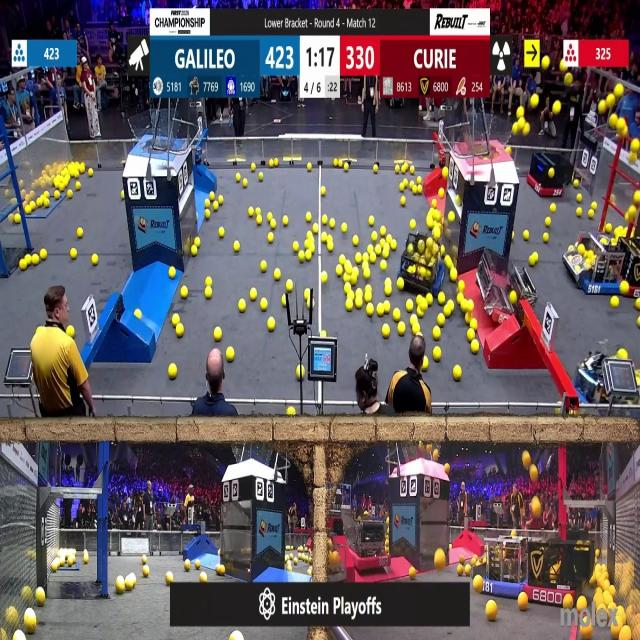ball_airborne: (534, 498, 544, 516), (523, 452, 531, 468), (530, 465, 538, 481), (619, 124, 628, 138), (616, 86, 625, 99), (609, 114, 617, 128), (530, 95, 538, 109), (598, 101, 606, 114), (517, 106, 525, 119), (540, 58, 548, 71), (554, 102, 562, 114), (606, 96, 614, 108), (523, 124, 530, 136), (632, 139, 639, 151), (565, 73, 572, 85), (630, 151, 638, 161), (634, 190, 640, 203), (560, 61, 567, 72), (514, 124, 520, 136), (432, 450, 438, 460), (630, 206, 636, 216), (444, 168, 449, 178), (505, 147, 511, 154)
ball_ground: (25, 612, 38, 635), (486, 601, 497, 620), (434, 552, 444, 570), (126, 574, 137, 590), (36, 589, 45, 607), (518, 594, 528, 610), (472, 575, 481, 591), (119, 578, 128, 594), (576, 597, 586, 610), (169, 363, 178, 377), (446, 302, 455, 316), (621, 282, 630, 295), (454, 365, 462, 379), (566, 593, 574, 607), (226, 347, 233, 362), (432, 326, 440, 339), (530, 253, 538, 266), (433, 348, 440, 362), (470, 342, 478, 354), (610, 295, 618, 307), (397, 322, 405, 334), (365, 306, 373, 318), (180, 286, 188, 298), (172, 314, 180, 326), (432, 229, 440, 241), (351, 271, 359, 283), (383, 324, 390, 337), (269, 318, 276, 331), (619, 349, 628, 359), (18, 261, 26, 272), (363, 291, 371, 302), (426, 217, 434, 228), (396, 279, 404, 290), (344, 265, 352, 276), (250, 288, 257, 300), (176, 324, 183, 336), (239, 300, 246, 312), (214, 328, 221, 340), (167, 571, 174, 583), (451, 270, 458, 282), (70, 248, 77, 260), (439, 292, 446, 304), (467, 328, 474, 340), (205, 287, 212, 299), (511, 291, 518, 303), (217, 564, 225, 574), (67, 326, 75, 336), (411, 316, 419, 326), (296, 365, 302, 378), (410, 567, 417, 578), (394, 310, 401, 321), (93, 253, 100, 264), (347, 301, 354, 312), (407, 301, 414, 312), (355, 299, 362, 310), (337, 267, 344, 278), (439, 315, 446, 326), (297, 250, 304, 261), (345, 284, 352, 295), (432, 210, 439, 221), (235, 241, 241, 253), (260, 300, 266, 312), (458, 280, 464, 292), (422, 357, 428, 369), (355, 288, 363, 297), (378, 305, 384, 317), (201, 572, 208, 582), (363, 270, 370, 280), (259, 262, 266, 272), (413, 324, 420, 334), (32, 254, 39, 264), (76, 229, 83, 239), (466, 302, 473, 312), (383, 248, 390, 258), (362, 252, 369, 262), (418, 308, 425, 318), (445, 255, 452, 265), (26, 255, 33, 265), (275, 270, 281, 281), (170, 268, 176, 279), (184, 560, 190, 571), (286, 281, 292, 292), (40, 249, 46, 260), (292, 239, 298, 250), (305, 288, 311, 299), (384, 303, 390, 314), (370, 233, 377, 242), (385, 286, 392, 295), (287, 409, 294, 418), (542, 234, 548, 244), (356, 253, 362, 263), (269, 234, 275, 244), (283, 216, 289, 226), (194, 560, 200, 570), (524, 231, 530, 241), (218, 228, 224, 238), (321, 273, 327, 283), (143, 566, 149, 576), (411, 219, 417, 229), (353, 237, 359, 247), (381, 262, 387, 272), (427, 294, 433, 304), (449, 212, 455, 222), (307, 212, 313, 222), (367, 216, 373, 226), (206, 277, 212, 287), (271, 219, 277, 229), (369, 253, 375, 263), (390, 241, 396, 251), (190, 246, 196, 256), (306, 250, 312, 260), (470, 319, 476, 329), (136, 310, 142, 320), (376, 246, 382, 256), (464, 314, 470, 324), (464, 564, 470, 574), (385, 234, 391, 244), (385, 279, 392, 287), (248, 208, 254, 217), (551, 204, 557, 213), (589, 210, 595, 219), (13, 214, 19, 223), (440, 188, 446, 197), (342, 223, 348, 232), (328, 219, 334, 228), (142, 556, 148, 565), (212, 201, 218, 210), (310, 244, 316, 253), (341, 254, 346, 264), (256, 215, 261, 225), (327, 242, 332, 252), (313, 223, 318, 233), (381, 226, 386, 236), (458, 565, 463, 575), (305, 162, 310, 172), (417, 294, 422, 304), (282, 294, 286, 306), (193, 239, 199, 247), (43, 200, 49, 208), (636, 296, 640, 308), (305, 241, 311, 249), (205, 200, 211, 208), (55, 190, 61, 198), (410, 167, 416, 175), (254, 208, 260, 216), (205, 210, 211, 218), (26, 206, 32, 214), (79, 166, 85, 174), (573, 180, 579, 188), (331, 160, 337, 168), (544, 217, 549, 226), (68, 189, 73, 198), (576, 192, 581, 201), (243, 178, 248, 187), (372, 164, 377, 173), (258, 173, 263, 182), (322, 215, 327, 224), (457, 293, 462, 302), (367, 245, 372, 254), (269, 212, 274, 221), (394, 167, 400, 174), (398, 183, 404, 190), (308, 233, 314, 240), (270, 161, 276, 168), (74, 171, 80, 178), (364, 286, 371, 292), (322, 234, 326, 244), (320, 186, 325, 194), (431, 200, 436, 208), (321, 330, 326, 338), (218, 195, 223, 203), (83, 556, 88, 564), (274, 160, 279, 168), (400, 166, 405, 174), (381, 238, 386, 246), (402, 178, 407, 186), (307, 302, 312, 310), (576, 208, 580, 217), (210, 191, 214, 200), (418, 184, 422, 193), (442, 246, 446, 255), (592, 203, 597, 210), (237, 175, 242, 182), (251, 165, 256, 172), (344, 275, 349, 282), (344, 165, 349, 172), (76, 182, 80, 190), (400, 198, 404, 206), (90, 169, 94, 177), (308, 568, 312, 576), (636, 318, 640, 326), (513, 233, 517, 241), (594, 551, 598, 559), (418, 177, 422, 184), (449, 542, 453, 549), (218, 550, 222, 557), (120, 190, 123, 198)
goal: (459, 119, 516, 159), (128, 116, 186, 151)
robot_blue: (561, 241, 623, 299), (481, 532, 529, 598), (398, 232, 446, 298)
robot_red: (529, 539, 594, 605), (348, 512, 391, 574), (526, 148, 569, 198), (621, 219, 640, 299)
